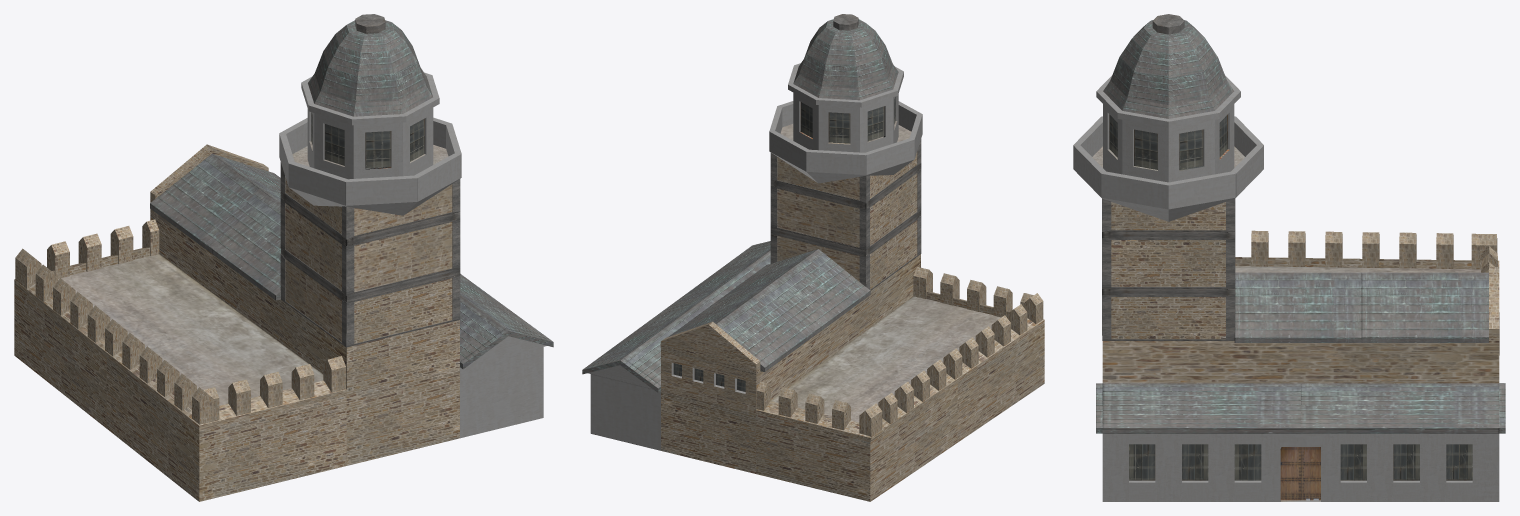
3 views of the same model, side by side, from view 1: azimuth 30°, elevation 25°; view 2: azimuth 150°, elevation 25°; view 3: azimuth 270°, elevation 25° (orthographic). The views are drawn at different scales.
Parts seen in each view (by area): view 1: Cone.001; view 2: Cone.001; view 3: Cone.001.
Part boxes in pixels (box(x1,y1,x2,y2)): Cone.001: box(14, 14, 553, 501); Cone.001: box(582, 14, 1044, 501); Cone.001: box(1073, 14, 1505, 501).
Bounding box in the file's own units: 1550 × 1719 × 1636.
Materials: 1 (1 with a texture image).
